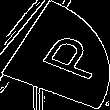P_NW: (14, 27, 96, 83)
